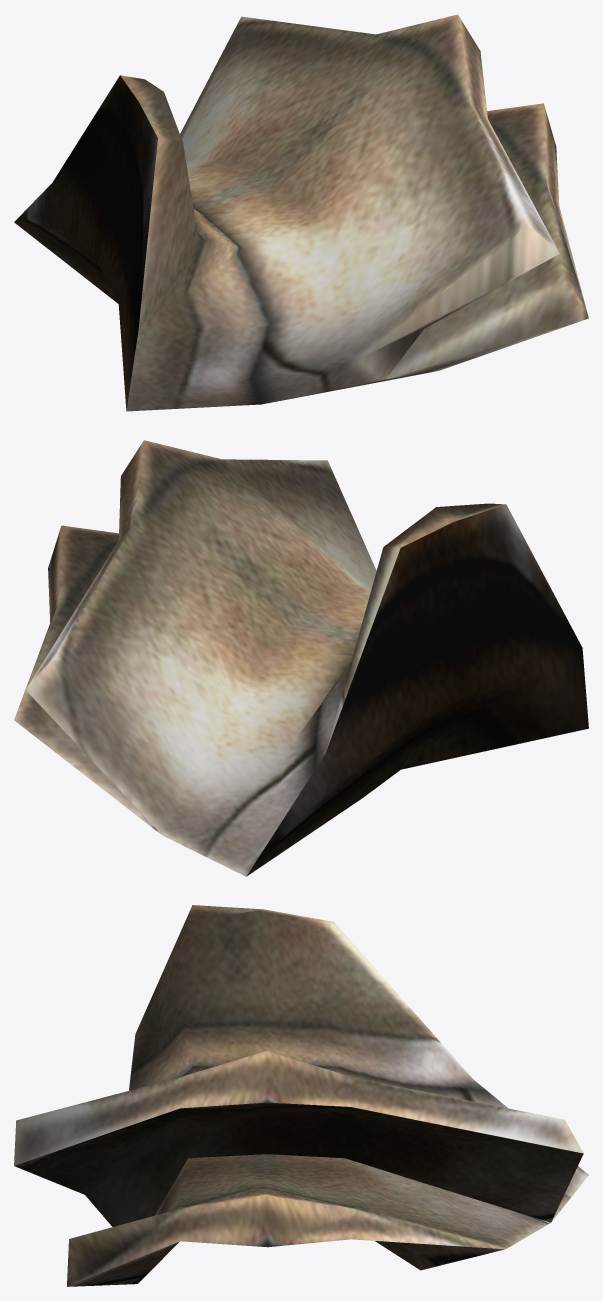
The model's file is shoulderR02.FBX.
The picture shows the model from 3 angles, top to bottom: view 1: azimuth 30°, elevation 25°; view 2: azimuth 150°, elevation 25°; view 3: azimuth 270°, elevation 25°; orthographic projection. The views are drawn at different scales.
Visible parts, largest first — view 1: shoulderR02; view 2: shoulderR02; view 3: shoulderR02.
Boxes of the visible parts, left/top/right/bottom form: shoulderR02: left=14, top=14, right=588, bottom=411; shoulderR02: left=14, top=440, right=588, bottom=876; shoulderR02: left=14, top=905, right=588, bottom=1286.
Bounding box in the file's own units: 0.4042 × 0.4241 × 0.2225.
